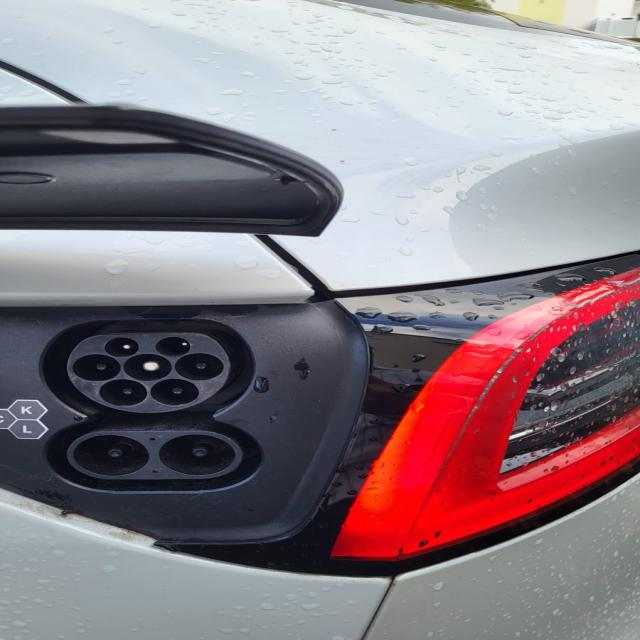inlet: (67, 333, 230, 413)
inlet-above-left: (104, 338, 139, 357)
inlet-above-right: (156, 337, 190, 357)
inlet-below-left: (99, 379, 146, 407)
inlet-below-right: (150, 378, 199, 405)
inlet-circle: (123, 354, 171, 380)
inlet-circle-left: (73, 354, 120, 381)
inlet-circle-right: (175, 353, 224, 381)
inlet-minus: (159, 434, 235, 475)
inlet-plus: (74, 435, 150, 476)
